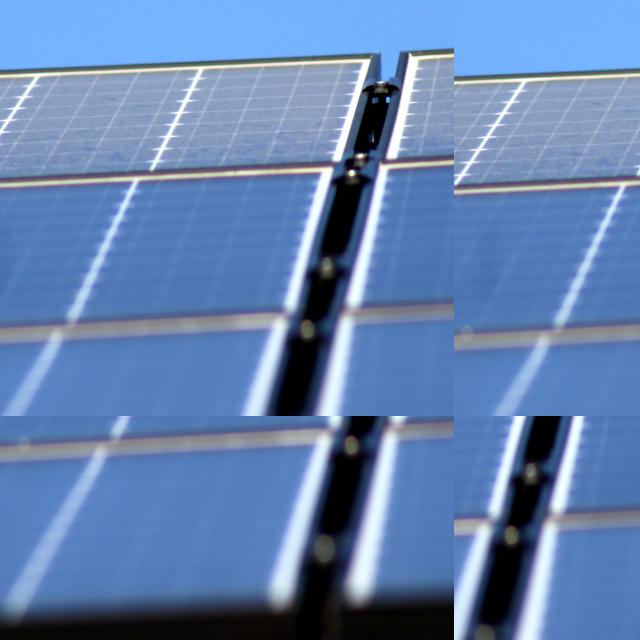bird: (0, 83, 16, 123), (1, 124, 17, 142), (0, 139, 10, 159), (0, 63, 9, 75), (0, 67, 4, 84)
dust: (454, 416, 573, 468), (454, 416, 531, 461), (454, 416, 514, 465)
shadow: (454, 0, 467, 27), (0, 416, 13, 443)
